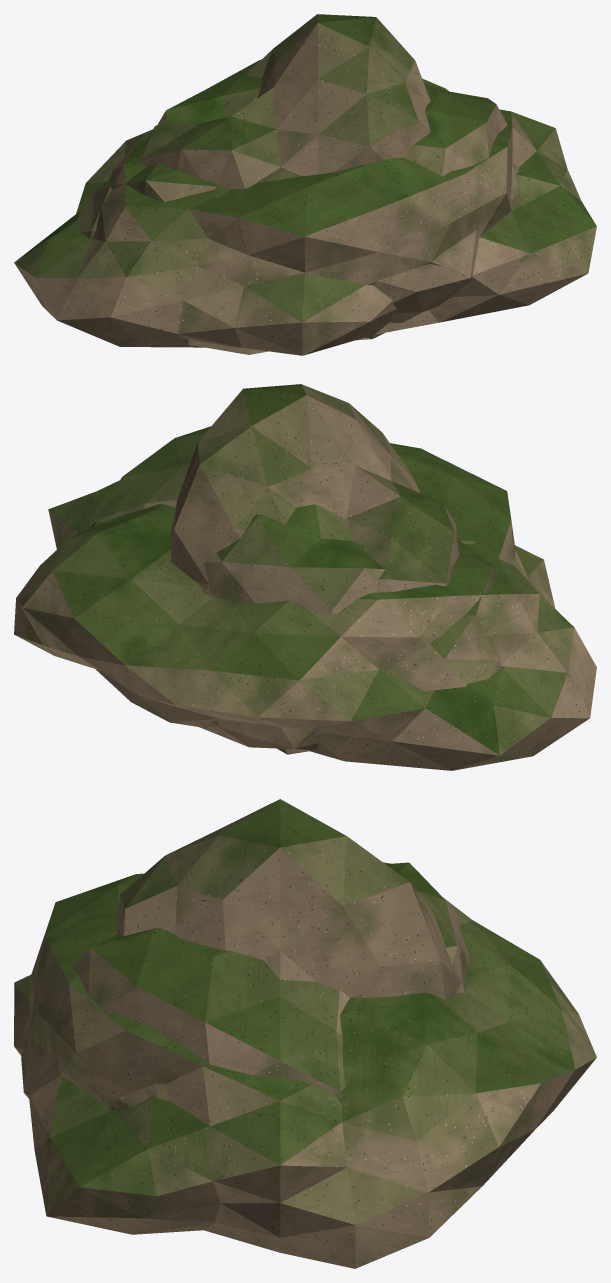
The model's file is env_rocks.glb.
3 views of the same model, one above another, from view 1: azimuth 30°, elevation 25°; view 2: azimuth 150°, elevation 25°; view 3: azimuth 270°, elevation 25° (orthographic). The views are drawn at different scales.
Parts seen in each view (by area): view 1: rock_c, rock_b, rock_a; view 2: rock_c, rock_b, rock_a; view 3: rock_c, rock_b, rock_a.
Part boxes in pixels (x1,y1,x2,y2): rock_c: (14, 78, 596, 355); rock_b: (139, 14, 430, 189); rock_a: (76, 60, 519, 354); rock_c: (14, 443, 596, 770); rock_b: (170, 384, 459, 754); rock_a: (90, 426, 500, 749); rock_c: (14, 873, 596, 1268); rock_b: (116, 799, 466, 999); rock_a: (21, 862, 469, 1110).
Bounding box in the file's own units: 2.51 × 1.2 × 1.94.
1 material, 1 textured.
